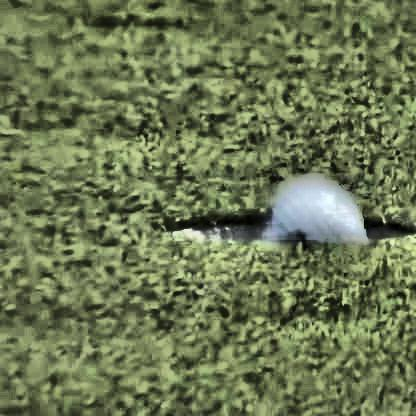golfball: (260, 190, 368, 260)
